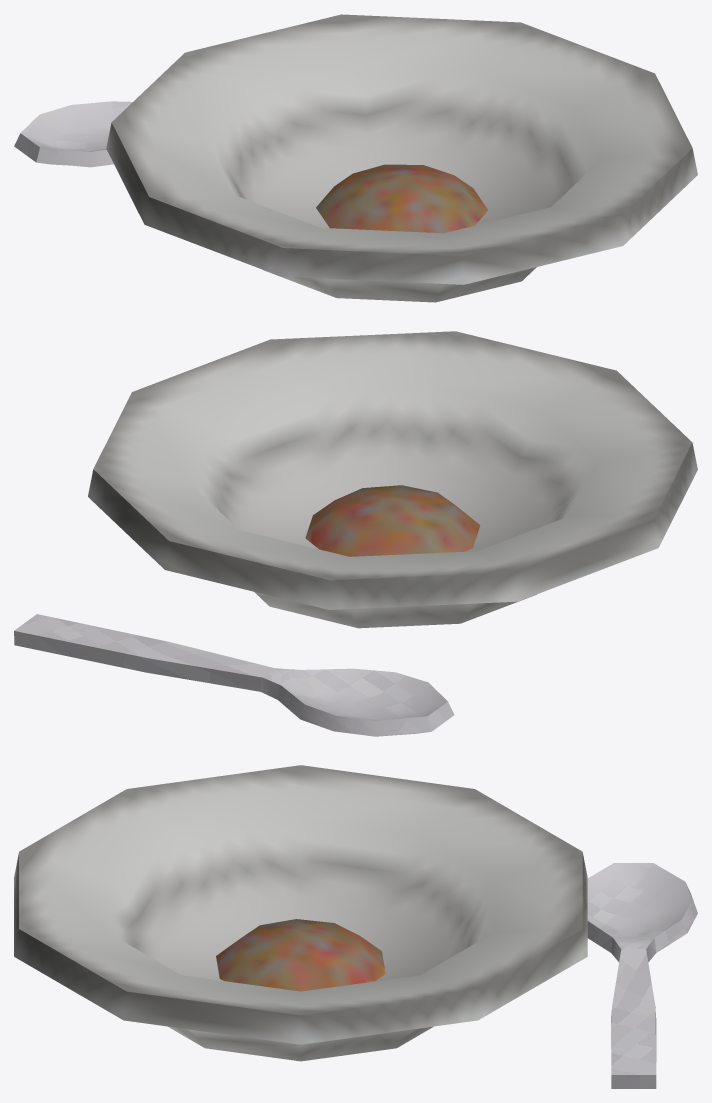
The model's file is Plate_Food.fbx.
The picture shows the model from 3 angles, top to bottom: view 1: azimuth 30°, elevation 25°; view 2: azimuth 150°, elevation 25°; view 3: azimuth 270°, elevation 25°; orthographic projection. The views are drawn at different scales.
Visible parts, largest first — view 1: Plate, Food, Spoon; view 2: Plate, Spoon, Food; view 3: Plate, Spoon, Food.
Boxes of the visible parts, <box> form: Plate: <box>106,14,697,302</box>; Food: <box>316,164,487,233</box>; Spoon: <box>14,101,132,167</box>; Plate: <box>88,331,697,628</box>; Spoon: <box>14,614,454,736</box>; Food: <box>305,485,480,556</box>; Plate: <box>14,765,587,1061</box>; Spoon: <box>587,863,697,1088</box>; Food: <box>216,919,385,991</box>.
Size of the model in its own units: 29.92 by 5.75 by 33.92.
